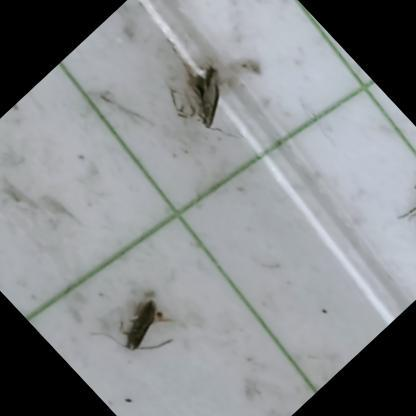prays_oleae: (144, 34, 268, 158), (80, 273, 192, 385), (370, 160, 416, 263)
